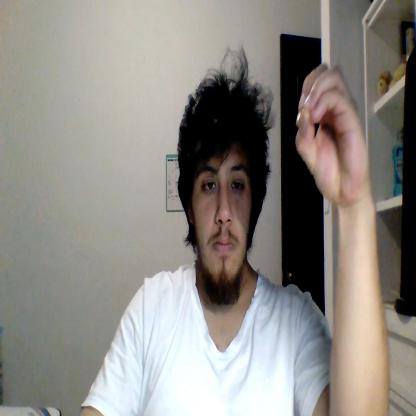O: (294, 61, 368, 202)
